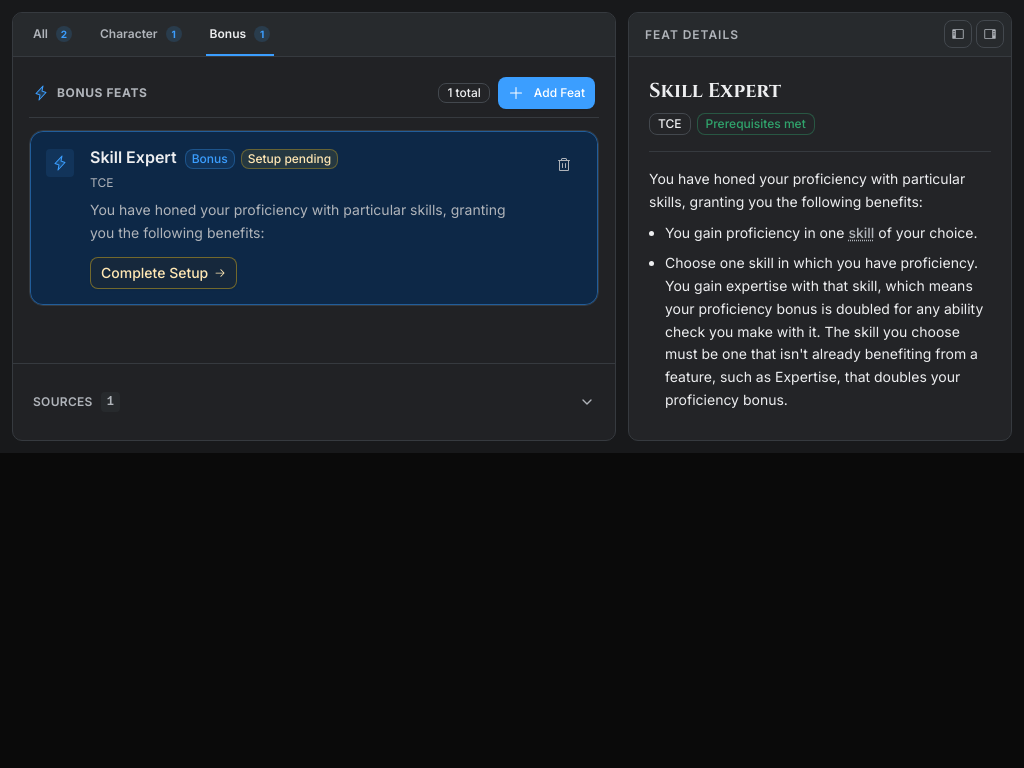
partial Complete Setup offers deliberate full Clear without inventing or removing underlying proficiency
This screenshot has width=1024, height=768.
Check: the text "Setup pending" is shown, box [241,149,338,169]
Click the button "Complete Setup": coordinates (164, 272) [90,256,237,288]
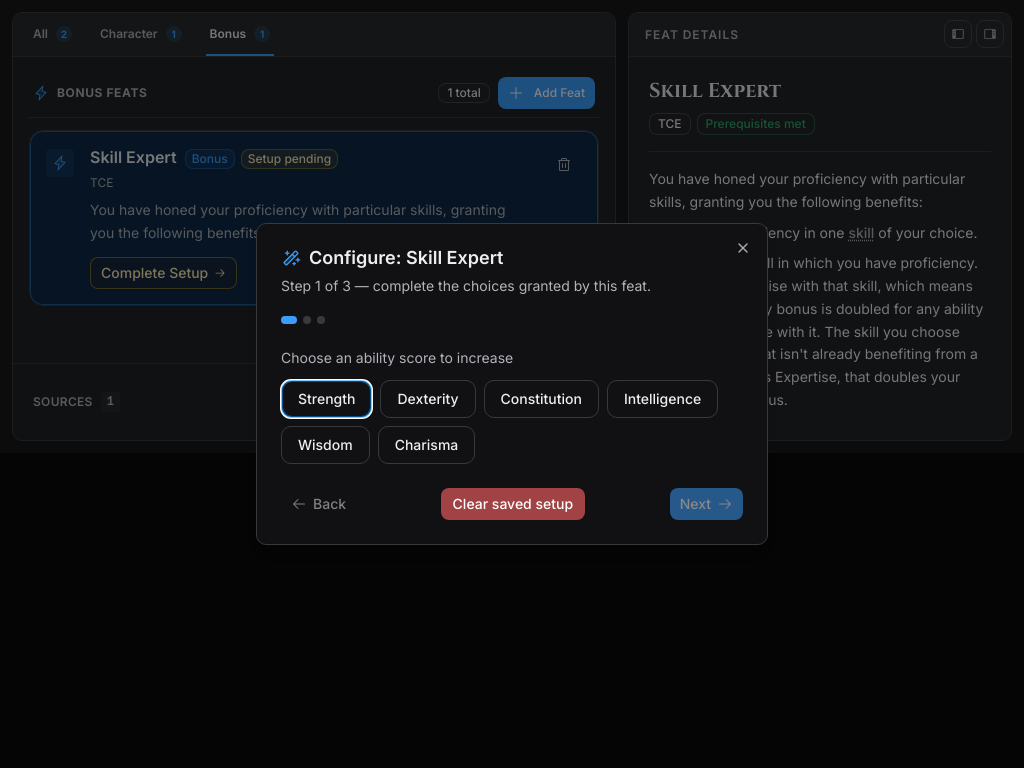
Click the button "Clear saved setup": coordinates (513, 504) [441,488,585,520]
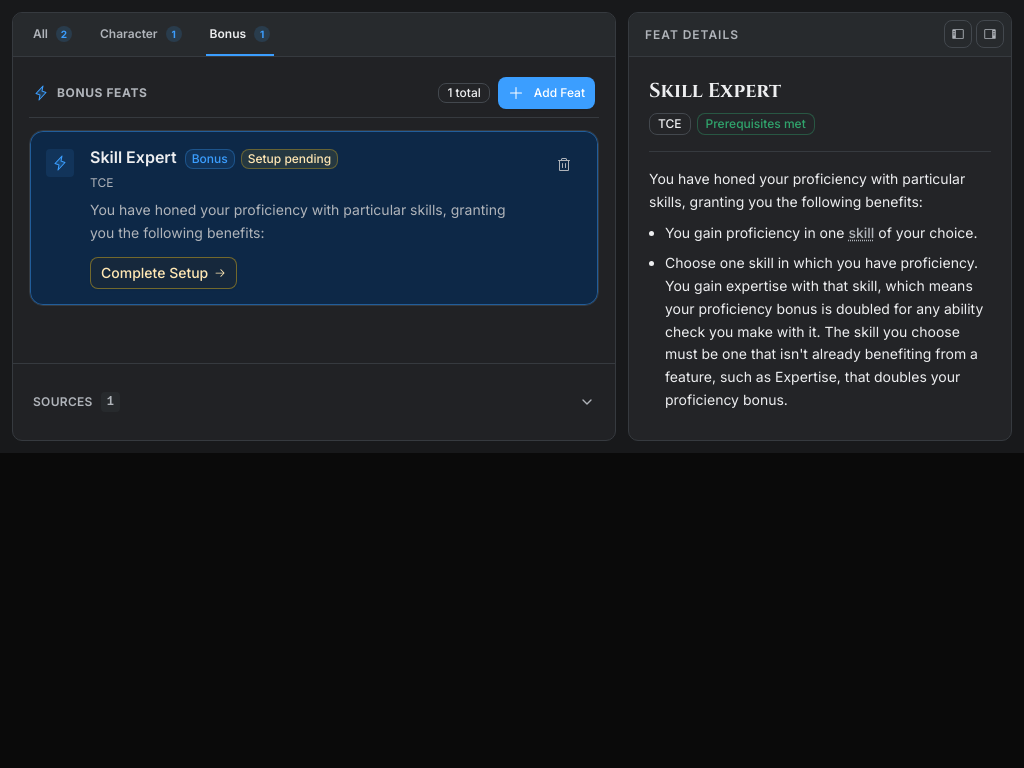
Check: the dialog is gone
